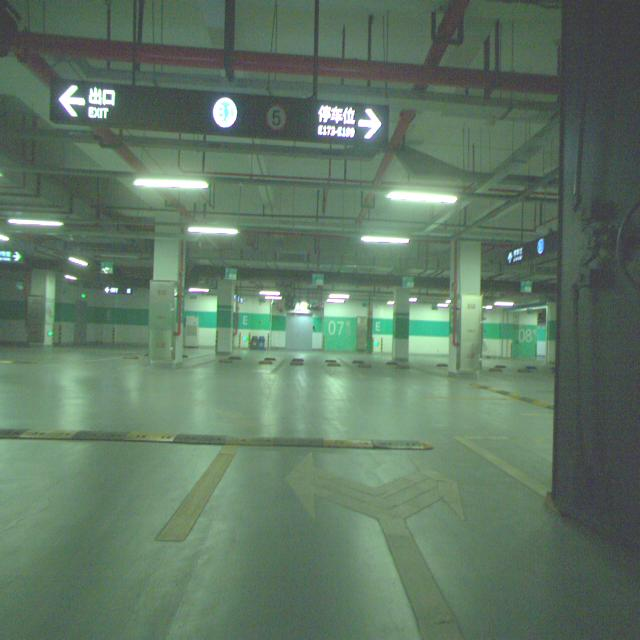pillar: (152, 225, 185, 365), (449, 239, 481, 374), (25, 269, 56, 346)
